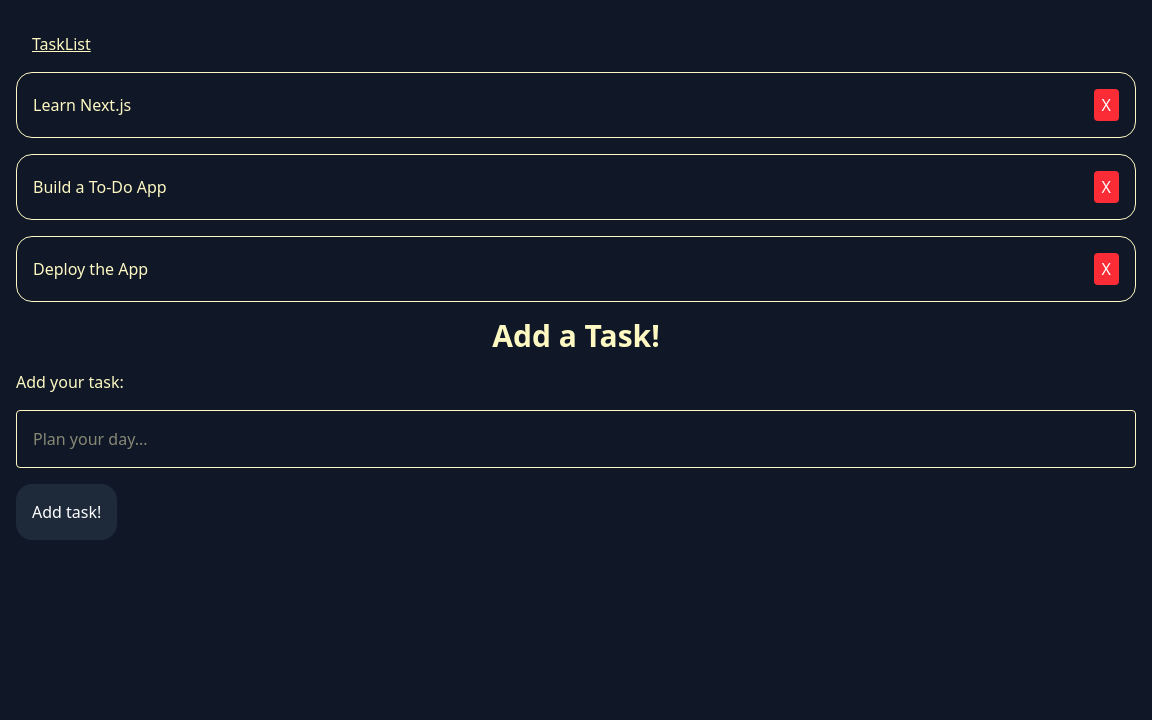
Test: Integration test for ToDo app › Test the add task functionality
Expected: the number of list items is 3, [16, 72, 1136, 138]; [16, 154, 1136, 220]; [16, 236, 1136, 302]
Type "Do the dishes" into the field labelled "Add your task:" at point(576, 439), box [16, 410, 1136, 468]
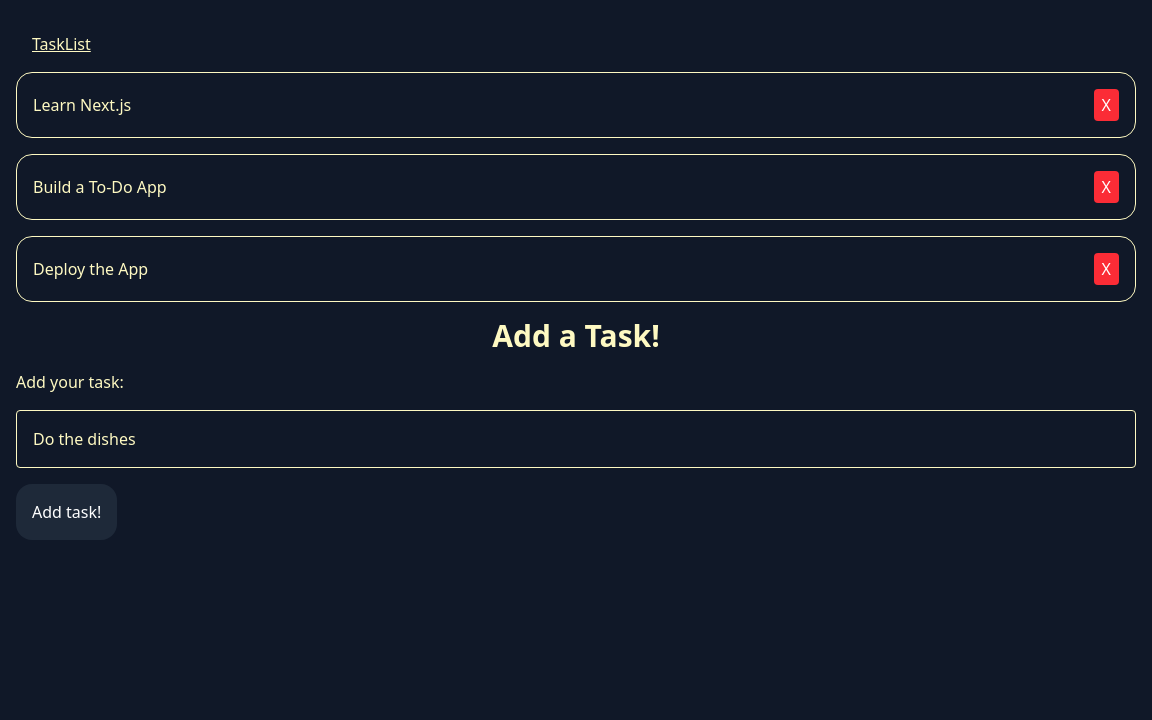
Click the button "Add task!" at point(67, 512), box [16, 484, 117, 540]
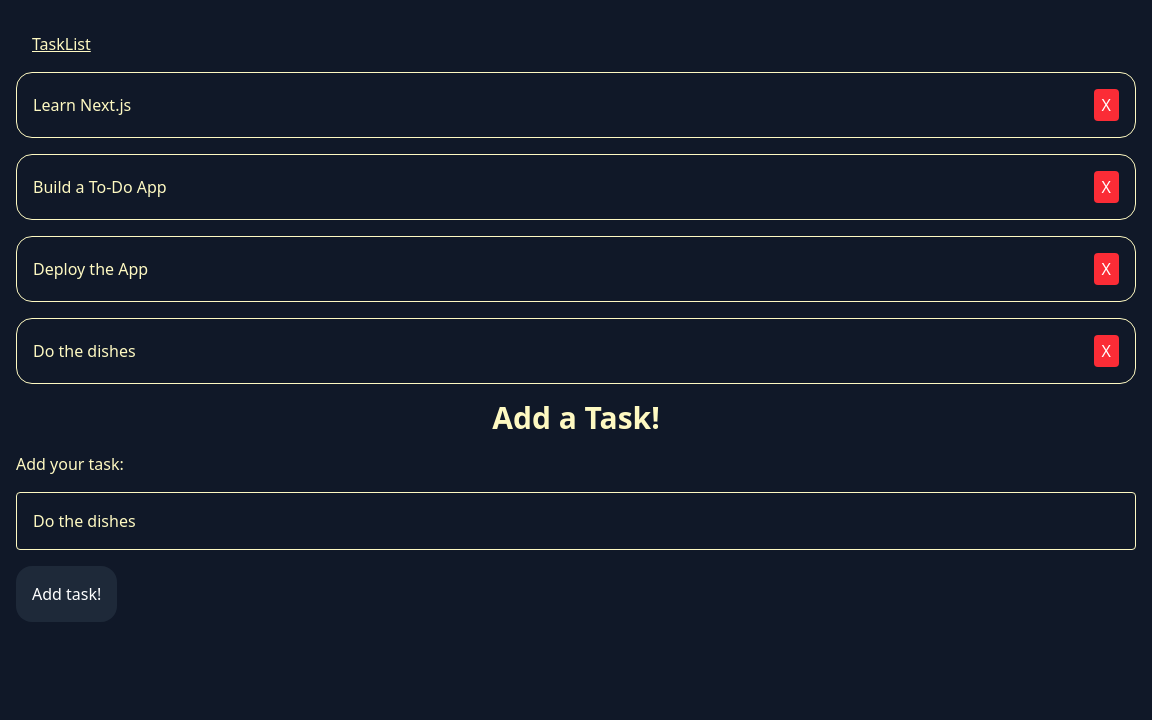
Now the number of list items is 4, box [16, 72, 1136, 138]; [16, 154, 1136, 220]; [16, 236, 1136, 302]; [16, 318, 1136, 384]
Now the list item "Do the dishes X" is shown, box [16, 318, 1136, 384]
Click the button "X" in the row of "Build a To-Do App" at point(1106, 187), box [1094, 171, 1119, 203]
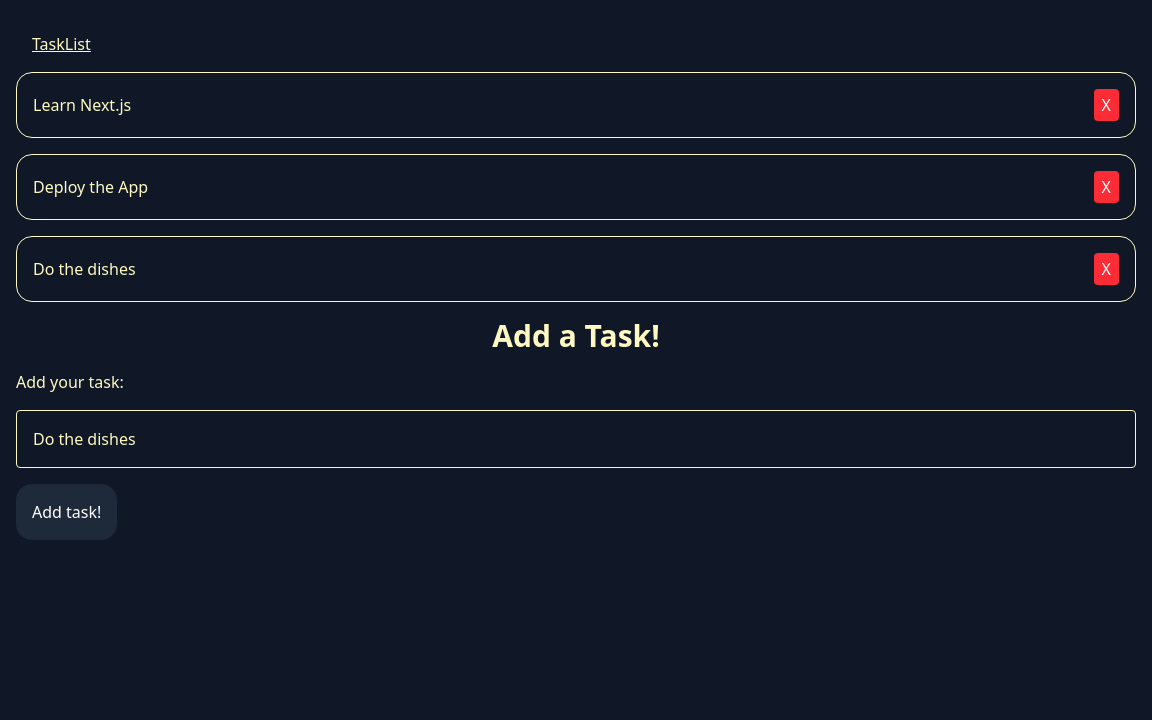
Now the number of list items is 3, box [16, 72, 1136, 138]; [16, 154, 1136, 220]; [16, 236, 1136, 302]
